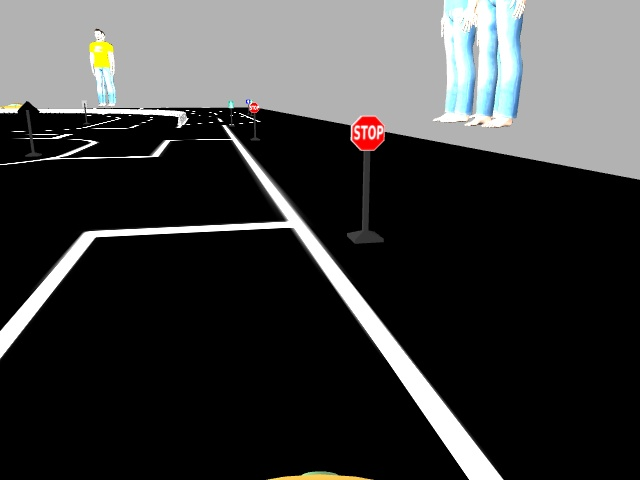Stop: (350, 114, 385, 151), (249, 102, 259, 113)
